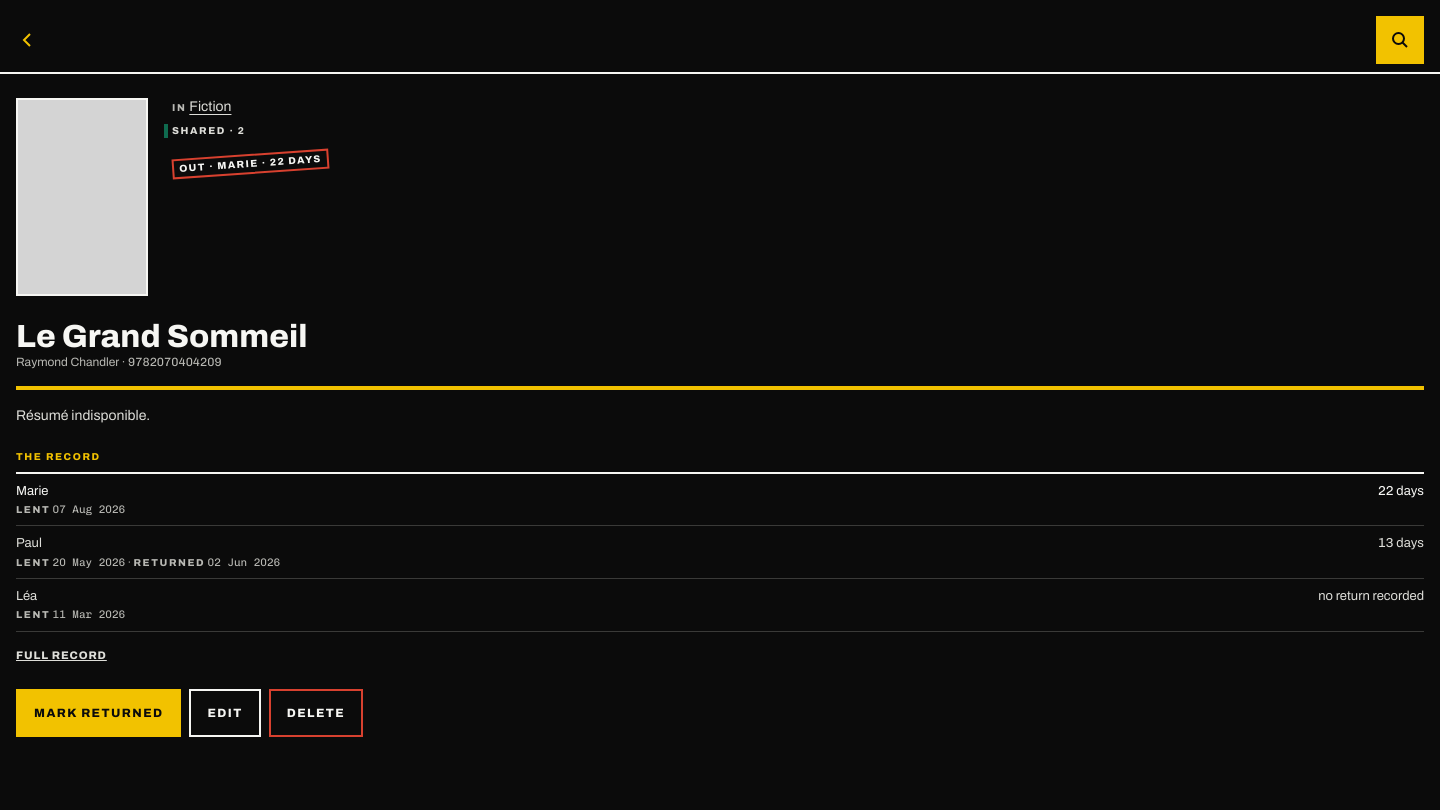
Scenario: the primary action acts or asks for exactly what it needs — never a menu › reports a failed return inline, never only as a toast
Click the button "Mark returned".
click(99, 713)  # box [16,689,182,737]
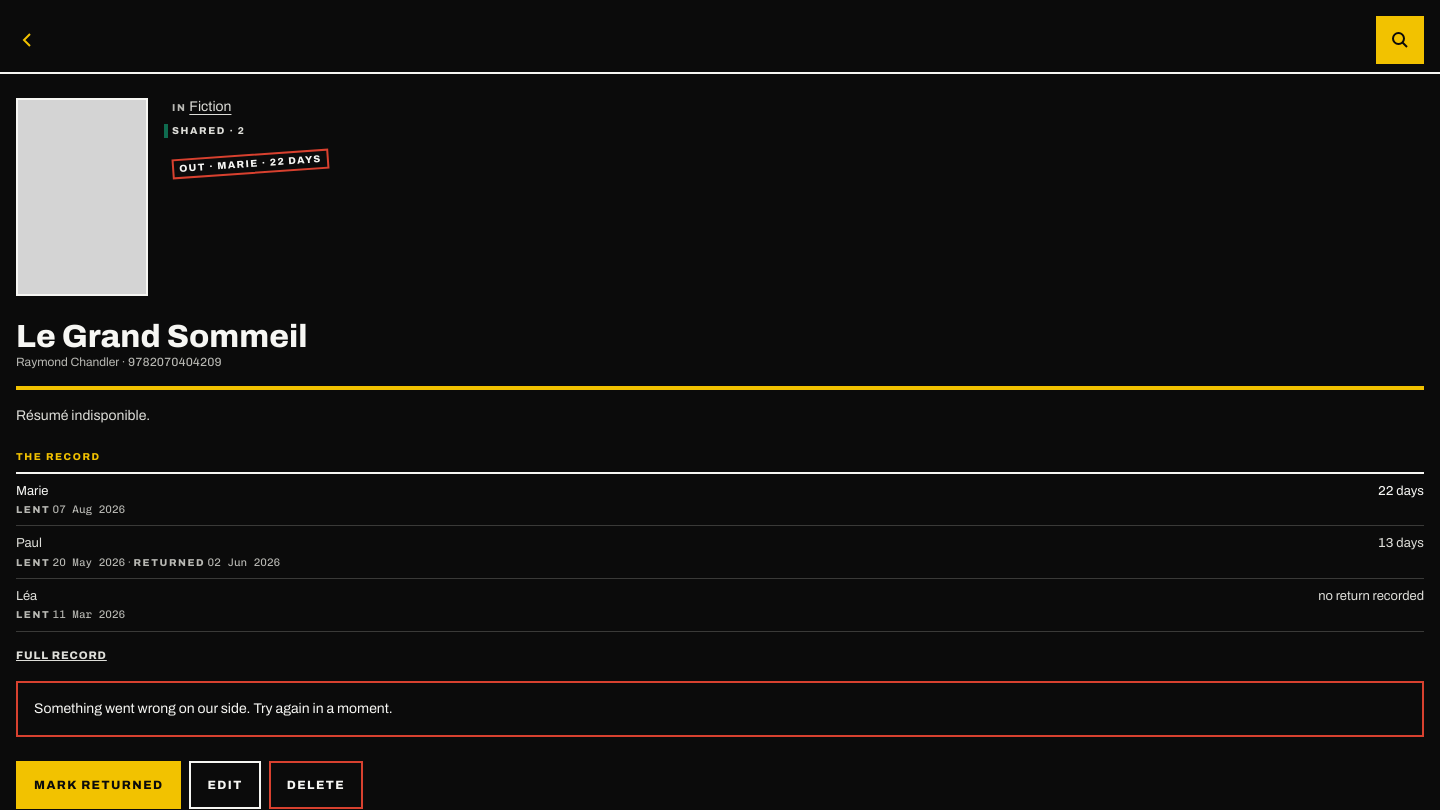
Expected: the message does not show "internal failure xyz", [16,681,1424,737]
Expected: the message shows "went wrong", [34,701,393,716]
